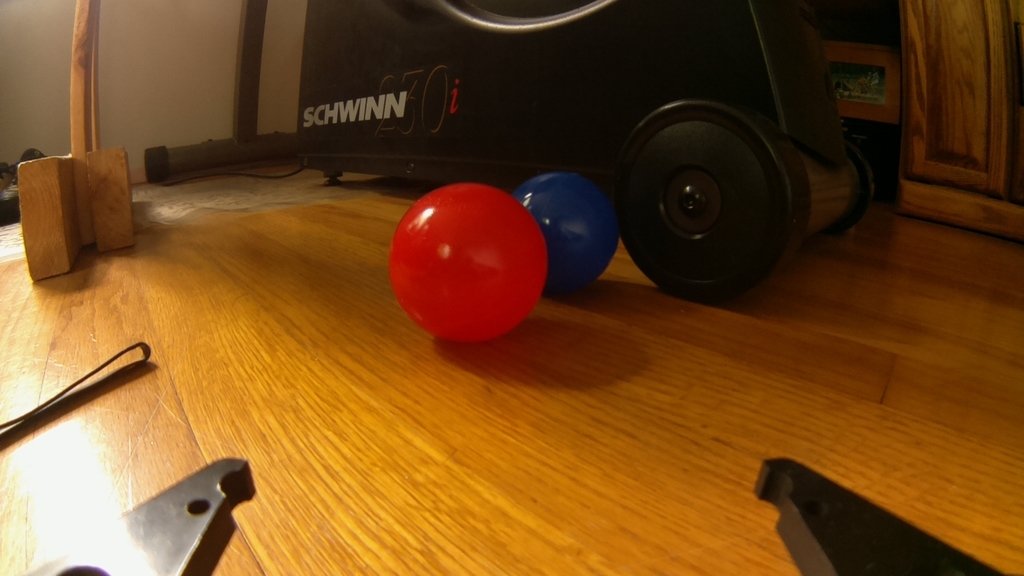ball: (381, 178, 549, 346)
